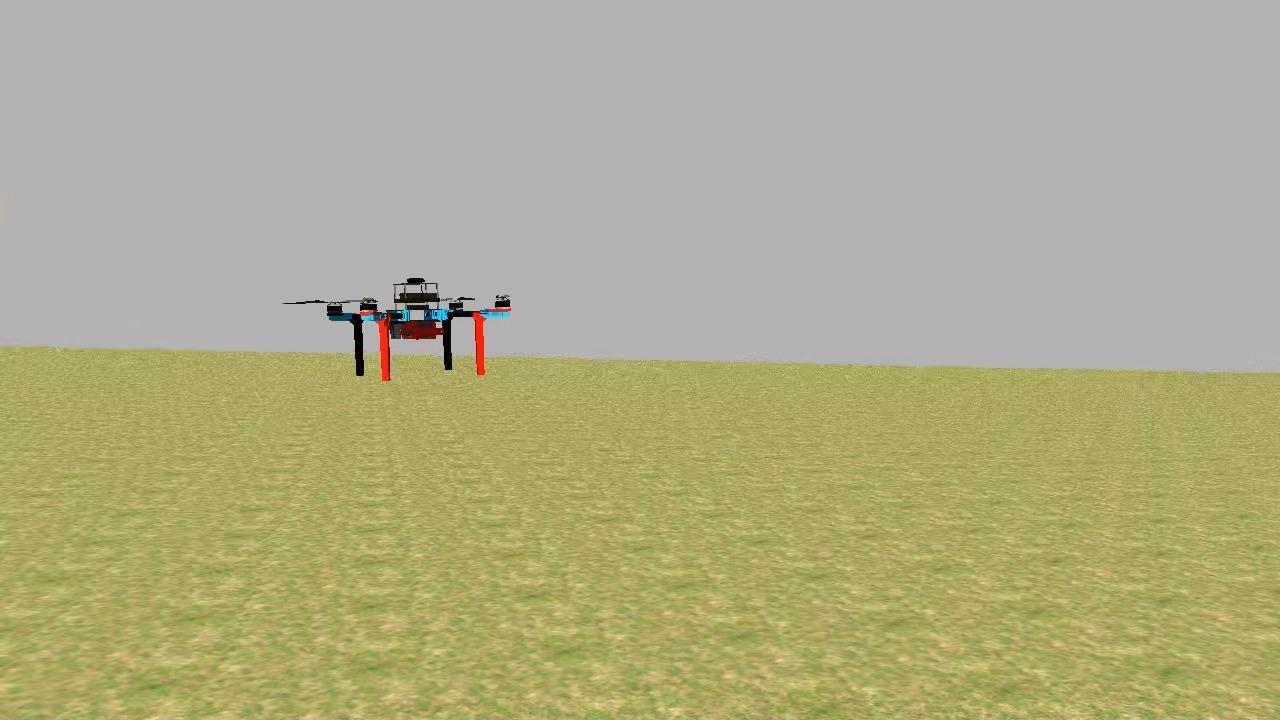UAV: (322, 270, 516, 388)
